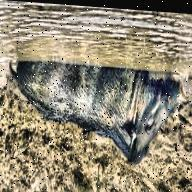boar: (26, 49, 191, 188)
